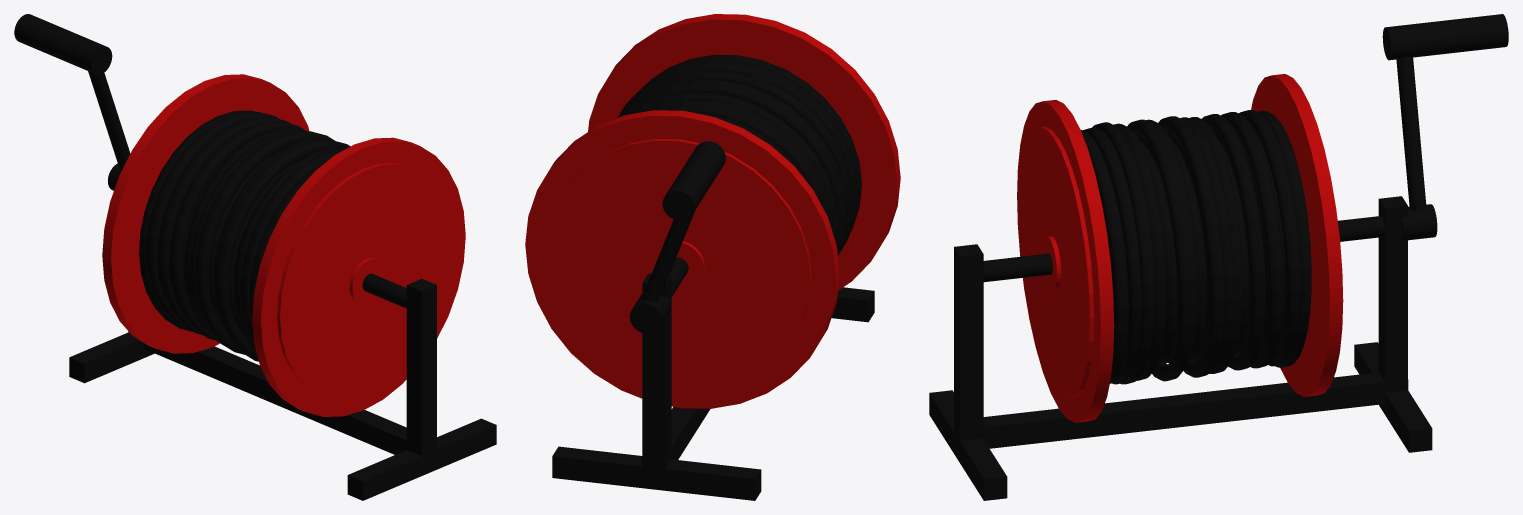
The model's file is Hose reel.obj.
3 renders of one model, left to right at view 1: azimuth 30°, elevation 25°; view 2: azimuth 150°, elevation 25°; view 3: azimuth 270°, elevation 25°, orthographic. The views are drawn at different scales.
Visible parts, largest first — view 1: Cylinder001, Box003, Cylinder002, Cylinder041, Cylinder039, Cylinder044, Cylinder045, Cylinder046, Cylinder037, Cylinder047, Cylinder038, Cylinder043 (+5 smaller); view 2: Cylinder002, Cylinder001, Box003, Cylinder040, Cylinder037, Cylinder038, Cylinder041, Cylinder035, Cylinder043, Cylinder039, Cylinder042, Cylinder036 (+1 smaller); view 3: Box003, Cylinder001, Cylinder002, Cylinder041, Cylinder044, Cylinder039, Cylinder045, Cylinder046, Cylinder037, Cylinder036, Cylinder035, Cylinder047 (+8 smaller).
Part boxes in pixels (box(x1,y1,x2,y2)): Cylinder001: box(252, 137, 465, 416); Box003: box(14, 14, 496, 500); Cylinder002: box(102, 74, 309, 353); Cylinder041: box(194, 131, 334, 354); Cylinder039: box(215, 139, 350, 361); Cylinder044: box(169, 121, 305, 340); Cylinder045: box(157, 117, 290, 334); Cylinder046: box(145, 112, 279, 329); Cylinder037: box(240, 148, 345, 347); Cylinder047: box(139, 110, 255, 332); Cylinder038: box(234, 147, 347, 352); Cylinder043: box(184, 128, 307, 345); Cylinder002: box(525, 110, 839, 408); Cylinder001: box(588, 14, 900, 290); Box003: box(552, 141, 874, 500); Cylinder040: box(624, 83, 843, 249); Cylinder037: box(617, 63, 857, 255); Cylinder038: box(623, 70, 851, 244); Cylinder041: box(629, 92, 838, 245); Cylinder035: box(645, 54, 861, 232); Cylinder043: box(656, 104, 830, 224); Cylinder039: box(620, 79, 847, 255); Cylinder042: box(641, 99, 833, 233); Cylinder036: box(676, 61, 857, 192); Box003: box(929, 14, 1508, 500); Cylinder001: box(1017, 100, 1114, 422); Cylinder002: box(1251, 74, 1343, 396); Cylinder041: box(1158, 116, 1224, 377); Cylinder044: box(1202, 114, 1265, 370); Cylinder039: box(1127, 119, 1192, 381); Cylinder045: box(1213, 112, 1283, 368); Cylinder046: box(1239, 110, 1300, 366); Cylinder037: box(1092, 122, 1154, 384); Cylinder036: box(1083, 127, 1141, 384); Cylinder035: box(1081, 130, 1128, 383); Cylinder047: box(1258, 110, 1311, 367).
Size of the model in its own units: 372957 by 387004 by 572247.
